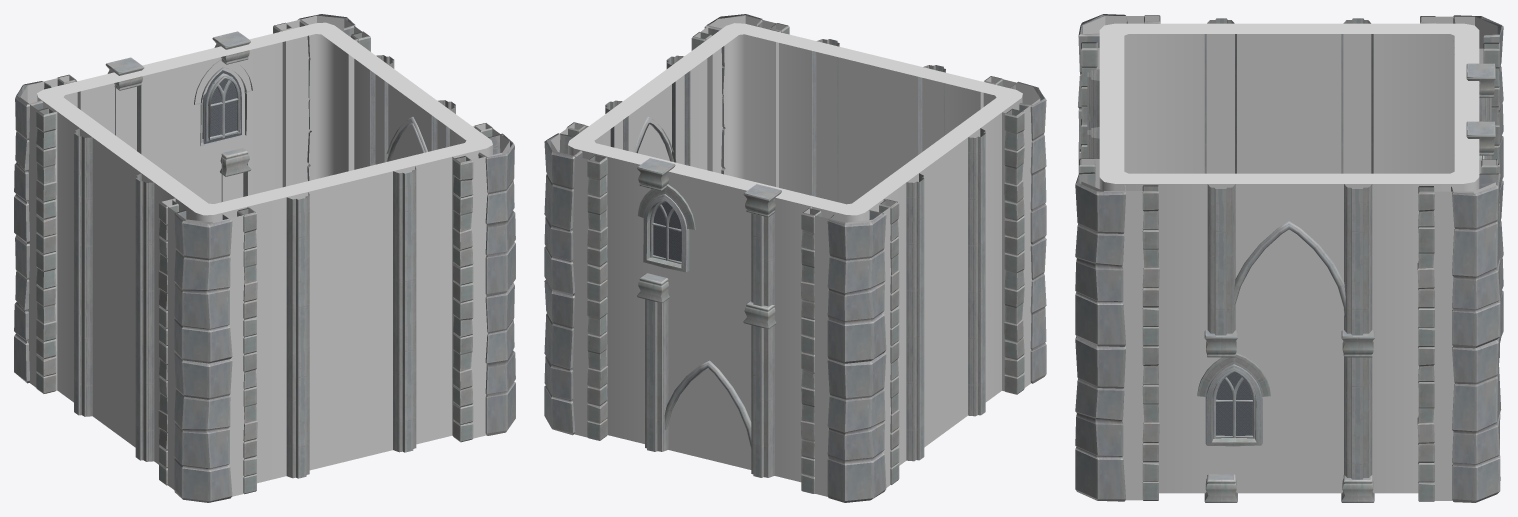
The model's file is SM_TowerF_Mid_03_Window.fbx.
The picture shows the model from 3 angles, left to right: view 1: azimuth 30°, elevation 25°; view 2: azimuth 150°, elevation 25°; view 3: azimuth 270°, elevation 25°; orthographic projection. The views are drawn at different scales.
Visible parts, largest first — view 1: SM_TowerF_Mid_03_Window_LOD0; view 2: SM_TowerF_Mid_03_Window_LOD0; view 3: SM_TowerF_Mid_03_Window_LOD0.
Part boxes in pixels (bbox=[...]): SM_TowerF_Mid_03_Window_LOD0: bbox=[14, 14, 515, 502]; SM_TowerF_Mid_03_Window_LOD0: bbox=[544, 14, 1046, 502]; SM_TowerF_Mid_03_Window_LOD0: bbox=[1075, 14, 1503, 502].
Size of what is drawn, in the model's own units: 11.29 by 9.21 by 11.29.
